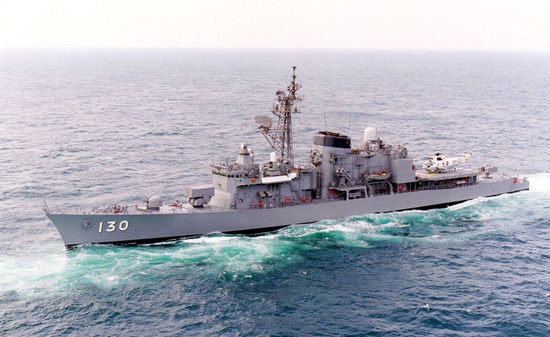warship: (41, 61, 534, 251)
